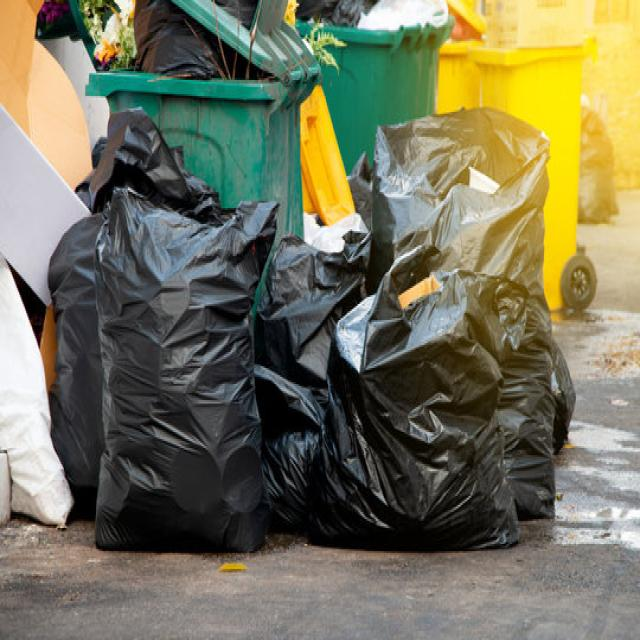trash: (76, 146, 530, 537)
